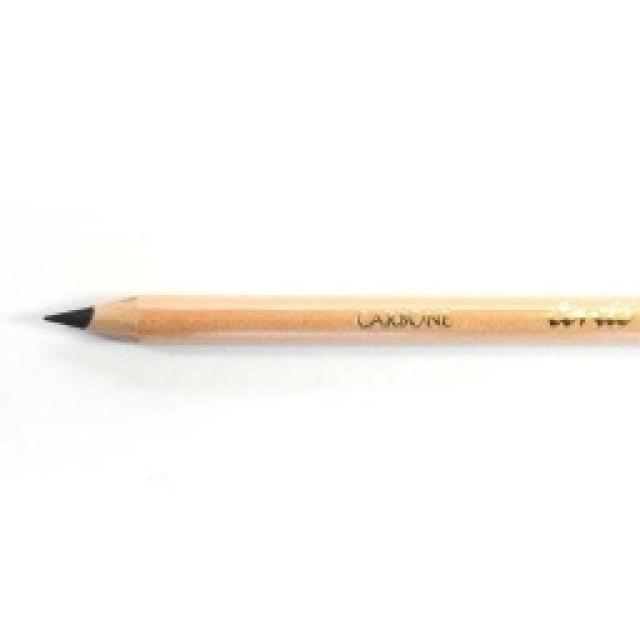pencil: (40, 288, 638, 350)
